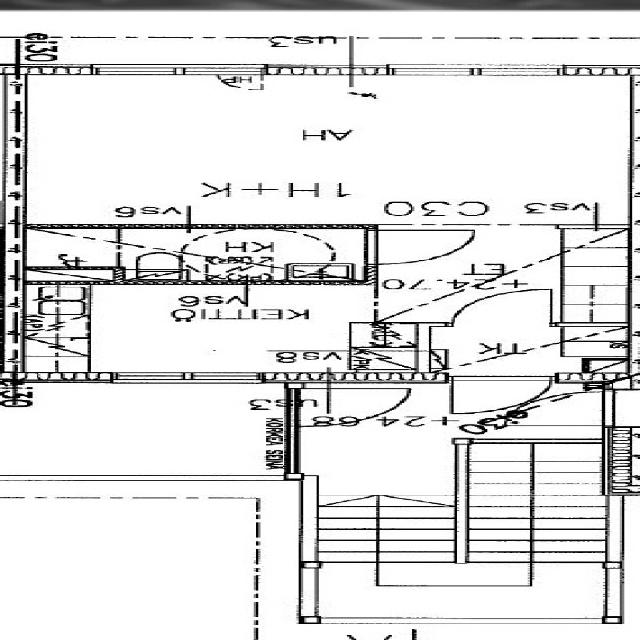door: (436, 373, 606, 437), (302, 380, 422, 426), (357, 225, 481, 268), (445, 288, 567, 326), (204, 66, 274, 92)
window: (101, 368, 277, 387), (381, 63, 568, 78), (76, 62, 186, 78)
zone: (3, 76, 640, 225), (9, 278, 411, 377), (356, 228, 640, 324), (10, 225, 381, 278), (440, 372, 606, 437), (605, 424, 640, 498)
